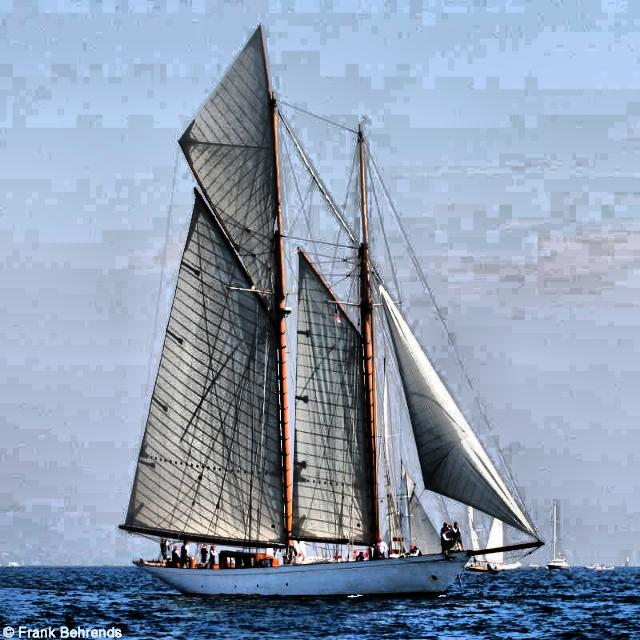sailing_vessel: (117, 22, 549, 602)
